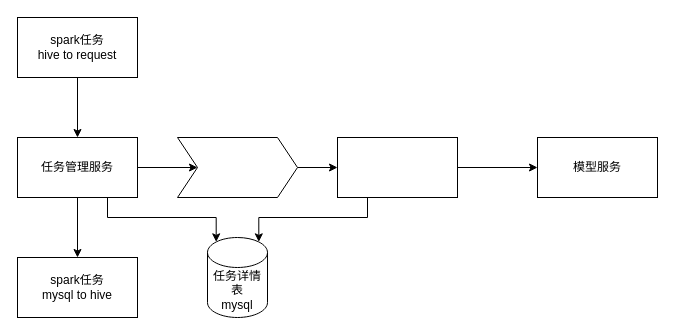
This 675x335 diagram has some shape labels left out. The shapes that lost their labels are listed below. From the top down, each one's centre as x and y in pixels, then its label:
At [237,167]: "任务队列".
At [397,167]: "队列处理服务".
